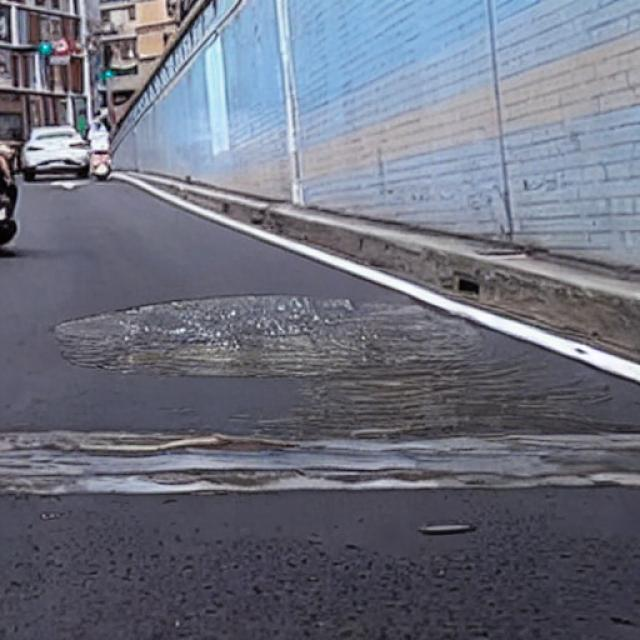puddle: (56, 297, 471, 380)
